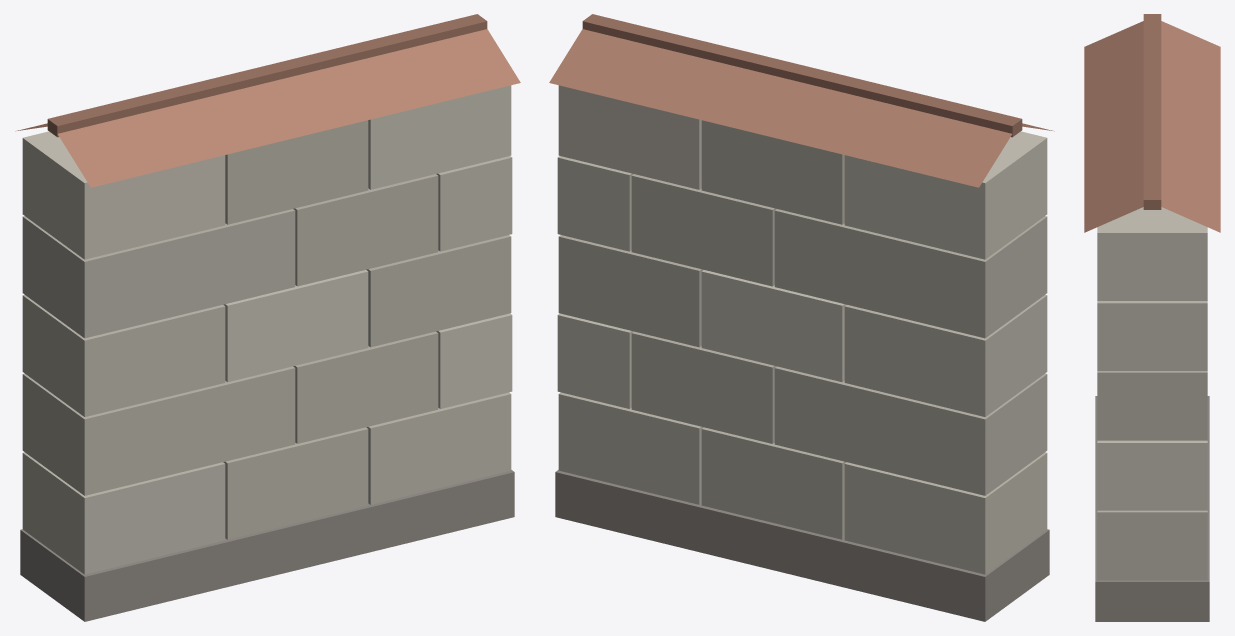
File: abbey_wall.glb
3 views of the same model, side by side, from view 1: azimuth 30°, elevation 25°; view 2: azimuth 150°, elevation 25°; view 3: azimuth 270°, elevation 25° (orthographic). The views are drawn at different scales.
Visible parts, largest first — view 1: abbey_wall; view 2: abbey_wall; view 3: abbey_wall.
Part boxes in pixels (<box>): abbey_wall: <box>15,14,520,621</box>; abbey_wall: <box>549,14,1054,621</box>; abbey_wall: <box>1084,14,1220,621</box>.
Bounding box in the file's own units: 4 × 4.23 × 1.24.
